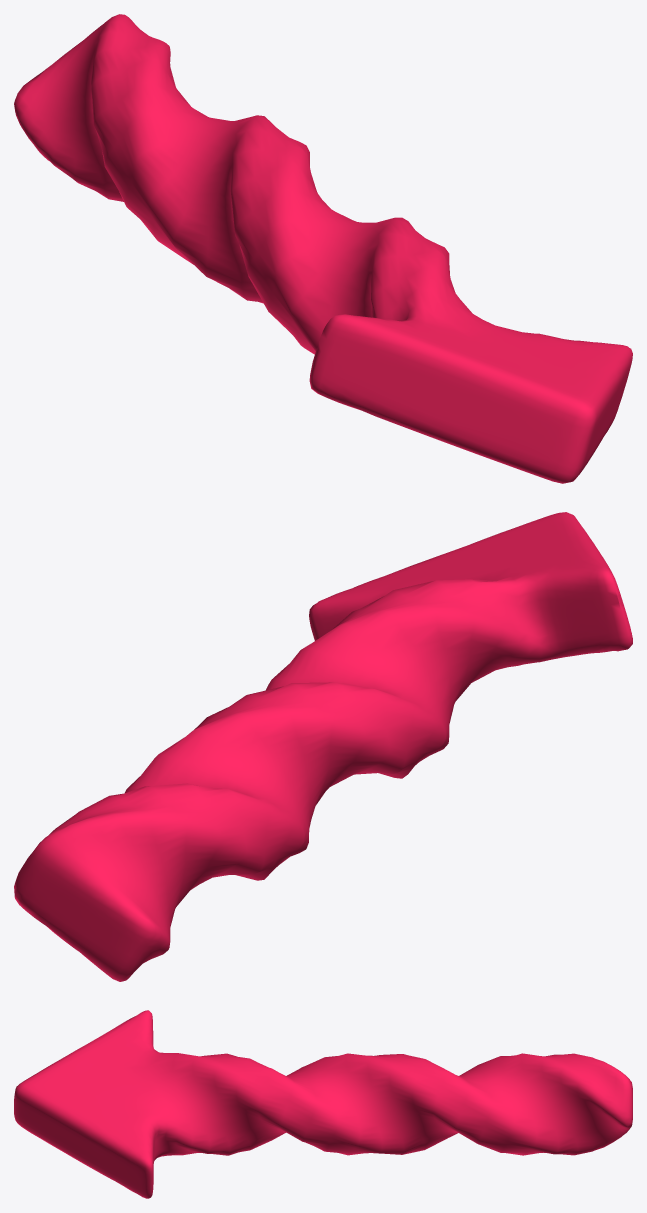
Rendered from animated arrow 11.fbx.
3 renders of one model, top to bottom at view 1: azimuth 30°, elevation 25°; view 2: azimuth 150°, elevation 25°; view 3: azimuth 270°, elevation 25°, orthographic. The views are drawn at different scales.
Parts seen in each view (by area): view 1: Arrow; view 2: Arrow; view 3: Arrow.
Boxes of the visible parts, box(x1,y1,x2,y2) form: Arrow: box(14, 14, 632, 483); Arrow: box(14, 512, 632, 981); Arrow: box(14, 1010, 632, 1198).
Size of the model in its own units: 177 by 91.82 by 480.
